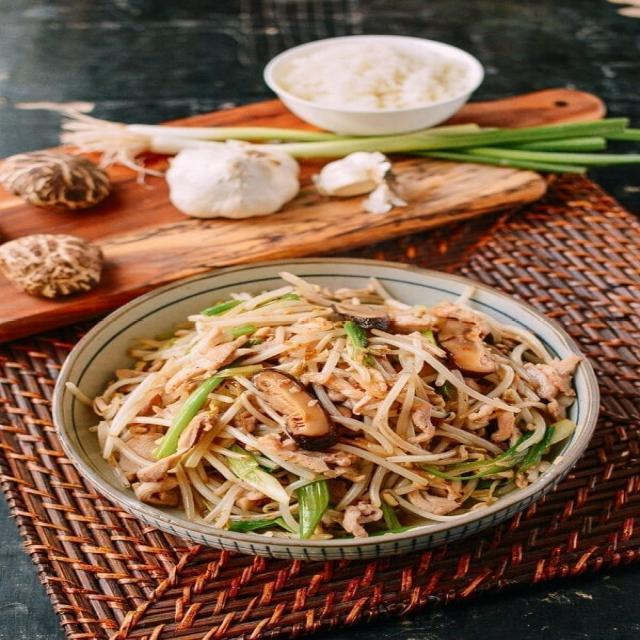Bean: (381, 384, 491, 460), (255, 329, 425, 371)
Mushroom: (246, 373, 350, 452), (437, 313, 515, 390)
